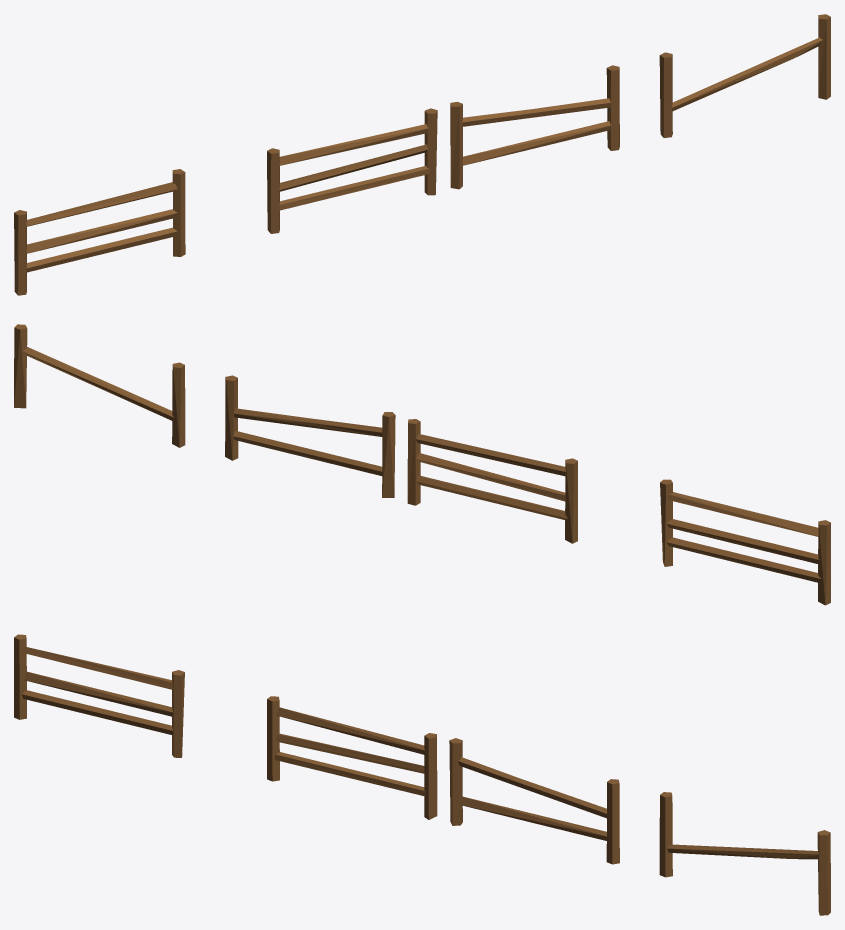
Rendered from Fences.fbx.
The picture shows the model from 3 angles, top to bottom: view 1: azimuth 30°, elevation 25°; view 2: azimuth 150°, elevation 25°; view 3: azimuth 330°, elevation 25°; orthographic projection.
Visible parts, largest first — view 1: Fence_1, Fence_2, Fence_3, Fence_4; view 2: Fence_1, Fence_2, Fence_3, Fence_4; view 3: Fence_2, Fence_1, Fence_3, Fence_4.
Part boxes in pixels (box(x1,y1,x2,y2)): Fence_1: box(14, 169, 185, 295); Fence_2: box(267, 108, 437, 233); Fence_3: box(450, 65, 619, 189); Fence_4: box(659, 14, 830, 137); Fence_1: box(660, 479, 830, 605); Fence_2: box(407, 419, 577, 543); Fence_3: box(225, 375, 395, 497); Fence_4: box(14, 324, 185, 447); Fence_2: box(267, 696, 437, 819); Fence_1: box(14, 634, 184, 757); Fence_3: box(449, 738, 619, 864); Fence_4: box(659, 792, 830, 915).
Bounding box in the file's own units: 1696 × 165 × 24.44.
